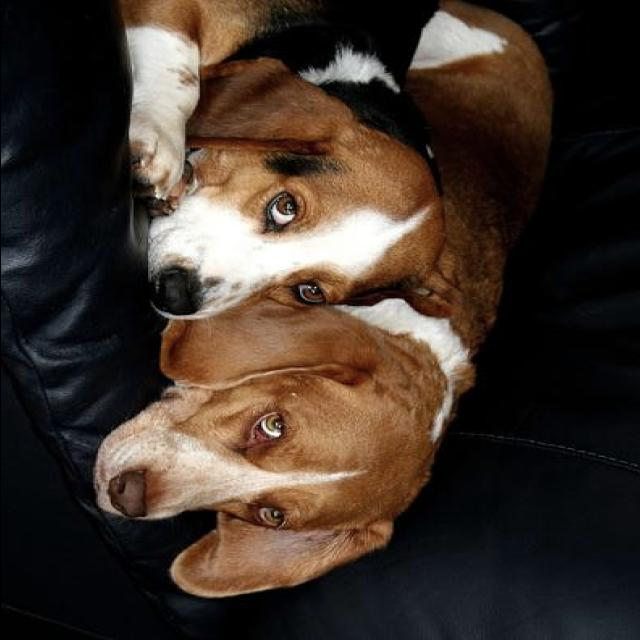beagle: (94, 4, 552, 599), (130, 0, 464, 317)
